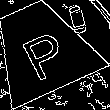P_NW: (11, 18, 71, 79)
